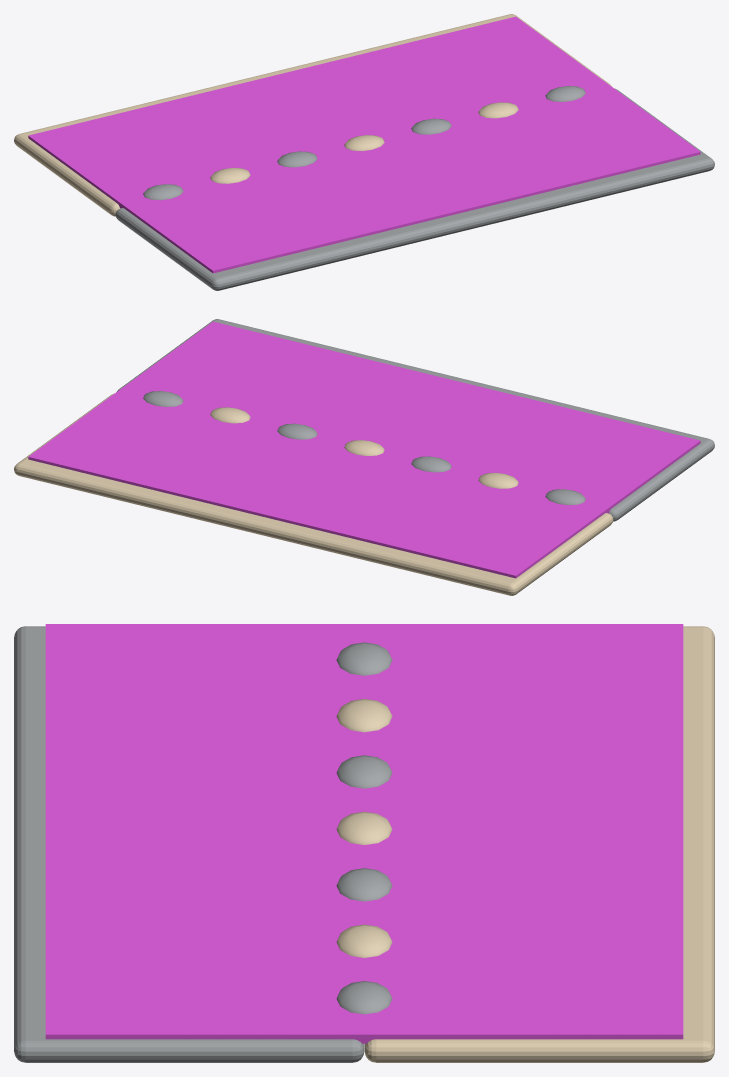
3 renders of one model, top to bottom at view 1: azimuth 30°, elevation 25°; view 2: azimuth 150°, elevation 25°; view 3: azimuth 270°, elevation 25°, orthographic. The views are drawn at different scales.
Visible parts, largest first — view 1: NAV_MASK_TRANSITION_ROCK_SAND, LOD0_TRANSITION_ROCK_SAND_A, LOD0_TRANSITION_ROCK_SAND_B, LOD0_TRANSITION_ROCK_SAND_Blend_03, LOD0_TRANSITION_ROCK_SAND_Blend_06, LOD0_TRANSITION_ROCK_SAND_Blend_05, LOD0_TRANSITION_ROCK_SAND_Blend_02, LOD0_TRANSITION_ROCK_SAND_Blend_01, LOD0_TRANSITION_ROCK_SAND_Blend_07, LOD0_TRANSITION_ROCK_SAND_Blend_04; view 2: NAV_MASK_TRANSITION_ROCK_SAND, LOD0_TRANSITION_ROCK_SAND_B, LOD0_TRANSITION_ROCK_SAND_A, LOD0_TRANSITION_ROCK_SAND_Blend_03, LOD0_TRANSITION_ROCK_SAND_Blend_06, LOD0_TRANSITION_ROCK_SAND_Blend_05, LOD0_TRANSITION_ROCK_SAND_Blend_02, LOD0_TRANSITION_ROCK_SAND_Blend_01, LOD0_TRANSITION_ROCK_SAND_Blend_07, LOD0_TRANSITION_ROCK_SAND_Blend_04; view 3: NAV_MASK_TRANSITION_ROCK_SAND, LOD0_TRANSITION_ROCK_SAND_A, LOD0_TRANSITION_ROCK_SAND_B, LOD0_TRANSITION_ROCK_SAND_Blend_06, LOD0_TRANSITION_ROCK_SAND_Blend_01, LOD0_TRANSITION_ROCK_SAND_Blend_02, LOD0_TRANSITION_ROCK_SAND_Blend_03, LOD0_TRANSITION_ROCK_SAND_Blend_05, LOD0_TRANSITION_ROCK_SAND_Blend_07, LOD0_TRANSITION_ROCK_SAND_Blend_04.
Boxes of the visible parts, x1,y1,x2,y2 form: NAV_MASK_TRANSITION_ROCK_SAND: [28, 16, 700, 273]; LOD0_TRANSITION_ROCK_SAND_A: [115, 88, 714, 290]; LOD0_TRANSITION_ROCK_SAND_B: [14, 14, 611, 216]; LOD0_TRANSITION_ROCK_SAND_Blend_03: [277, 151, 317, 167]; LOD0_TRANSITION_ROCK_SAND_Blend_06: [478, 102, 518, 118]; LOD0_TRANSITION_ROCK_SAND_Blend_05: [411, 118, 451, 134]; LOD0_TRANSITION_ROCK_SAND_Blend_02: [210, 167, 250, 183]; LOD0_TRANSITION_ROCK_SAND_Blend_01: [143, 184, 183, 200]; LOD0_TRANSITION_ROCK_SAND_Blend_07: [545, 86, 585, 101]; LOD0_TRANSITION_ROCK_SAND_Blend_04: [344, 135, 384, 150]; NAV_MASK_TRANSITION_ROCK_SAND: [28, 321, 700, 578]; LOD0_TRANSITION_ROCK_SAND_B: [14, 393, 613, 595]; LOD0_TRANSITION_ROCK_SAND_A: [117, 319, 714, 521]; LOD0_TRANSITION_ROCK_SAND_Blend_03: [411, 456, 451, 472]; LOD0_TRANSITION_ROCK_SAND_Blend_06: [210, 407, 250, 423]; LOD0_TRANSITION_ROCK_SAND_Blend_05: [277, 423, 317, 439]; LOD0_TRANSITION_ROCK_SAND_Blend_02: [478, 472, 518, 488]; LOD0_TRANSITION_ROCK_SAND_Blend_01: [545, 489, 585, 505]; LOD0_TRANSITION_ROCK_SAND_Blend_07: [143, 391, 183, 406]; LOD0_TRANSITION_ROCK_SAND_Blend_04: [344, 440, 384, 455]; NAV_MASK_TRANSITION_ROCK_SAND: [45, 624, 683, 1043]; LOD0_TRANSITION_ROCK_SAND_A: [14, 626, 364, 1062]; LOD0_TRANSITION_ROCK_SAND_B: [364, 626, 714, 1062]; LOD0_TRANSITION_ROCK_SAND_Blend_06: [336, 924, 392, 957]; LOD0_TRANSITION_ROCK_SAND_Blend_01: [336, 642, 392, 675]; LOD0_TRANSITION_ROCK_SAND_Blend_02: [336, 699, 392, 732]; LOD0_TRANSITION_ROCK_SAND_Blend_03: [336, 755, 392, 788]; LOD0_TRANSITION_ROCK_SAND_Blend_05: [336, 868, 392, 901]; LOD0_TRANSITION_ROCK_SAND_Blend_07: [336, 981, 392, 1014]; LOD0_TRANSITION_ROCK_SAND_Blend_04: [336, 811, 392, 844].
Size of what is drawn, in the model's own units: 6 by 0.23 by 4.2.
